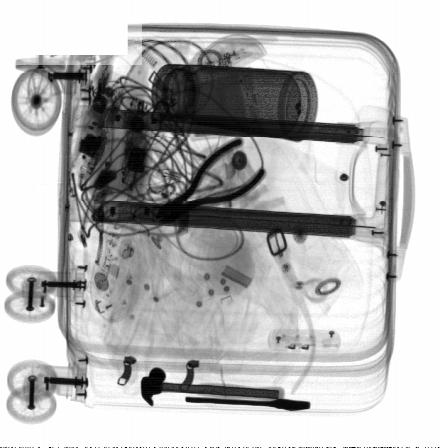Hammer: (141, 367, 285, 410)
Pliers: (154, 137, 267, 225)
Powerbank: (181, 66, 264, 139)
Wrench: (185, 395, 313, 412)
